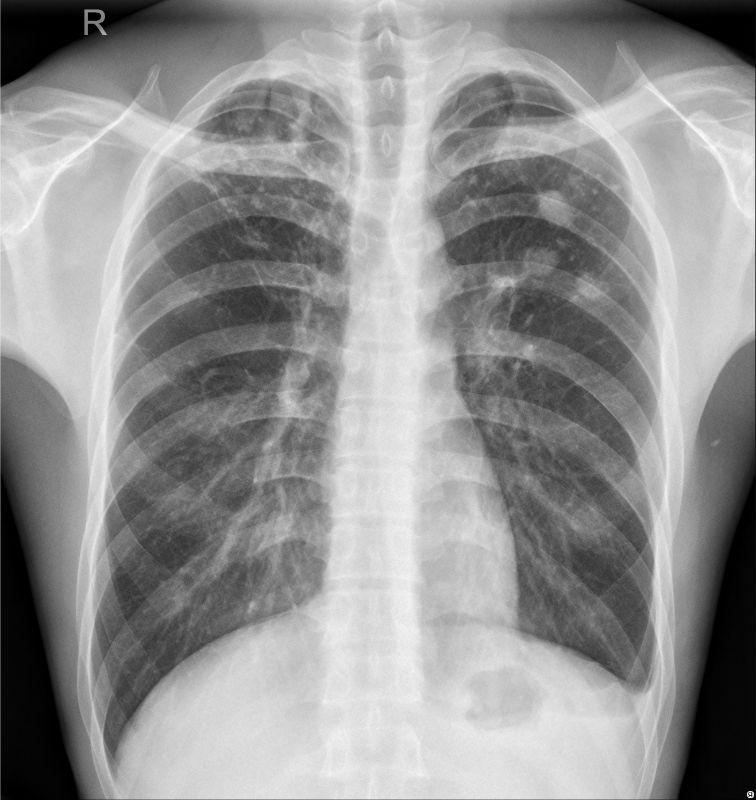Tuberculosis (TB): (474, 111, 606, 316), (190, 122, 328, 265)
